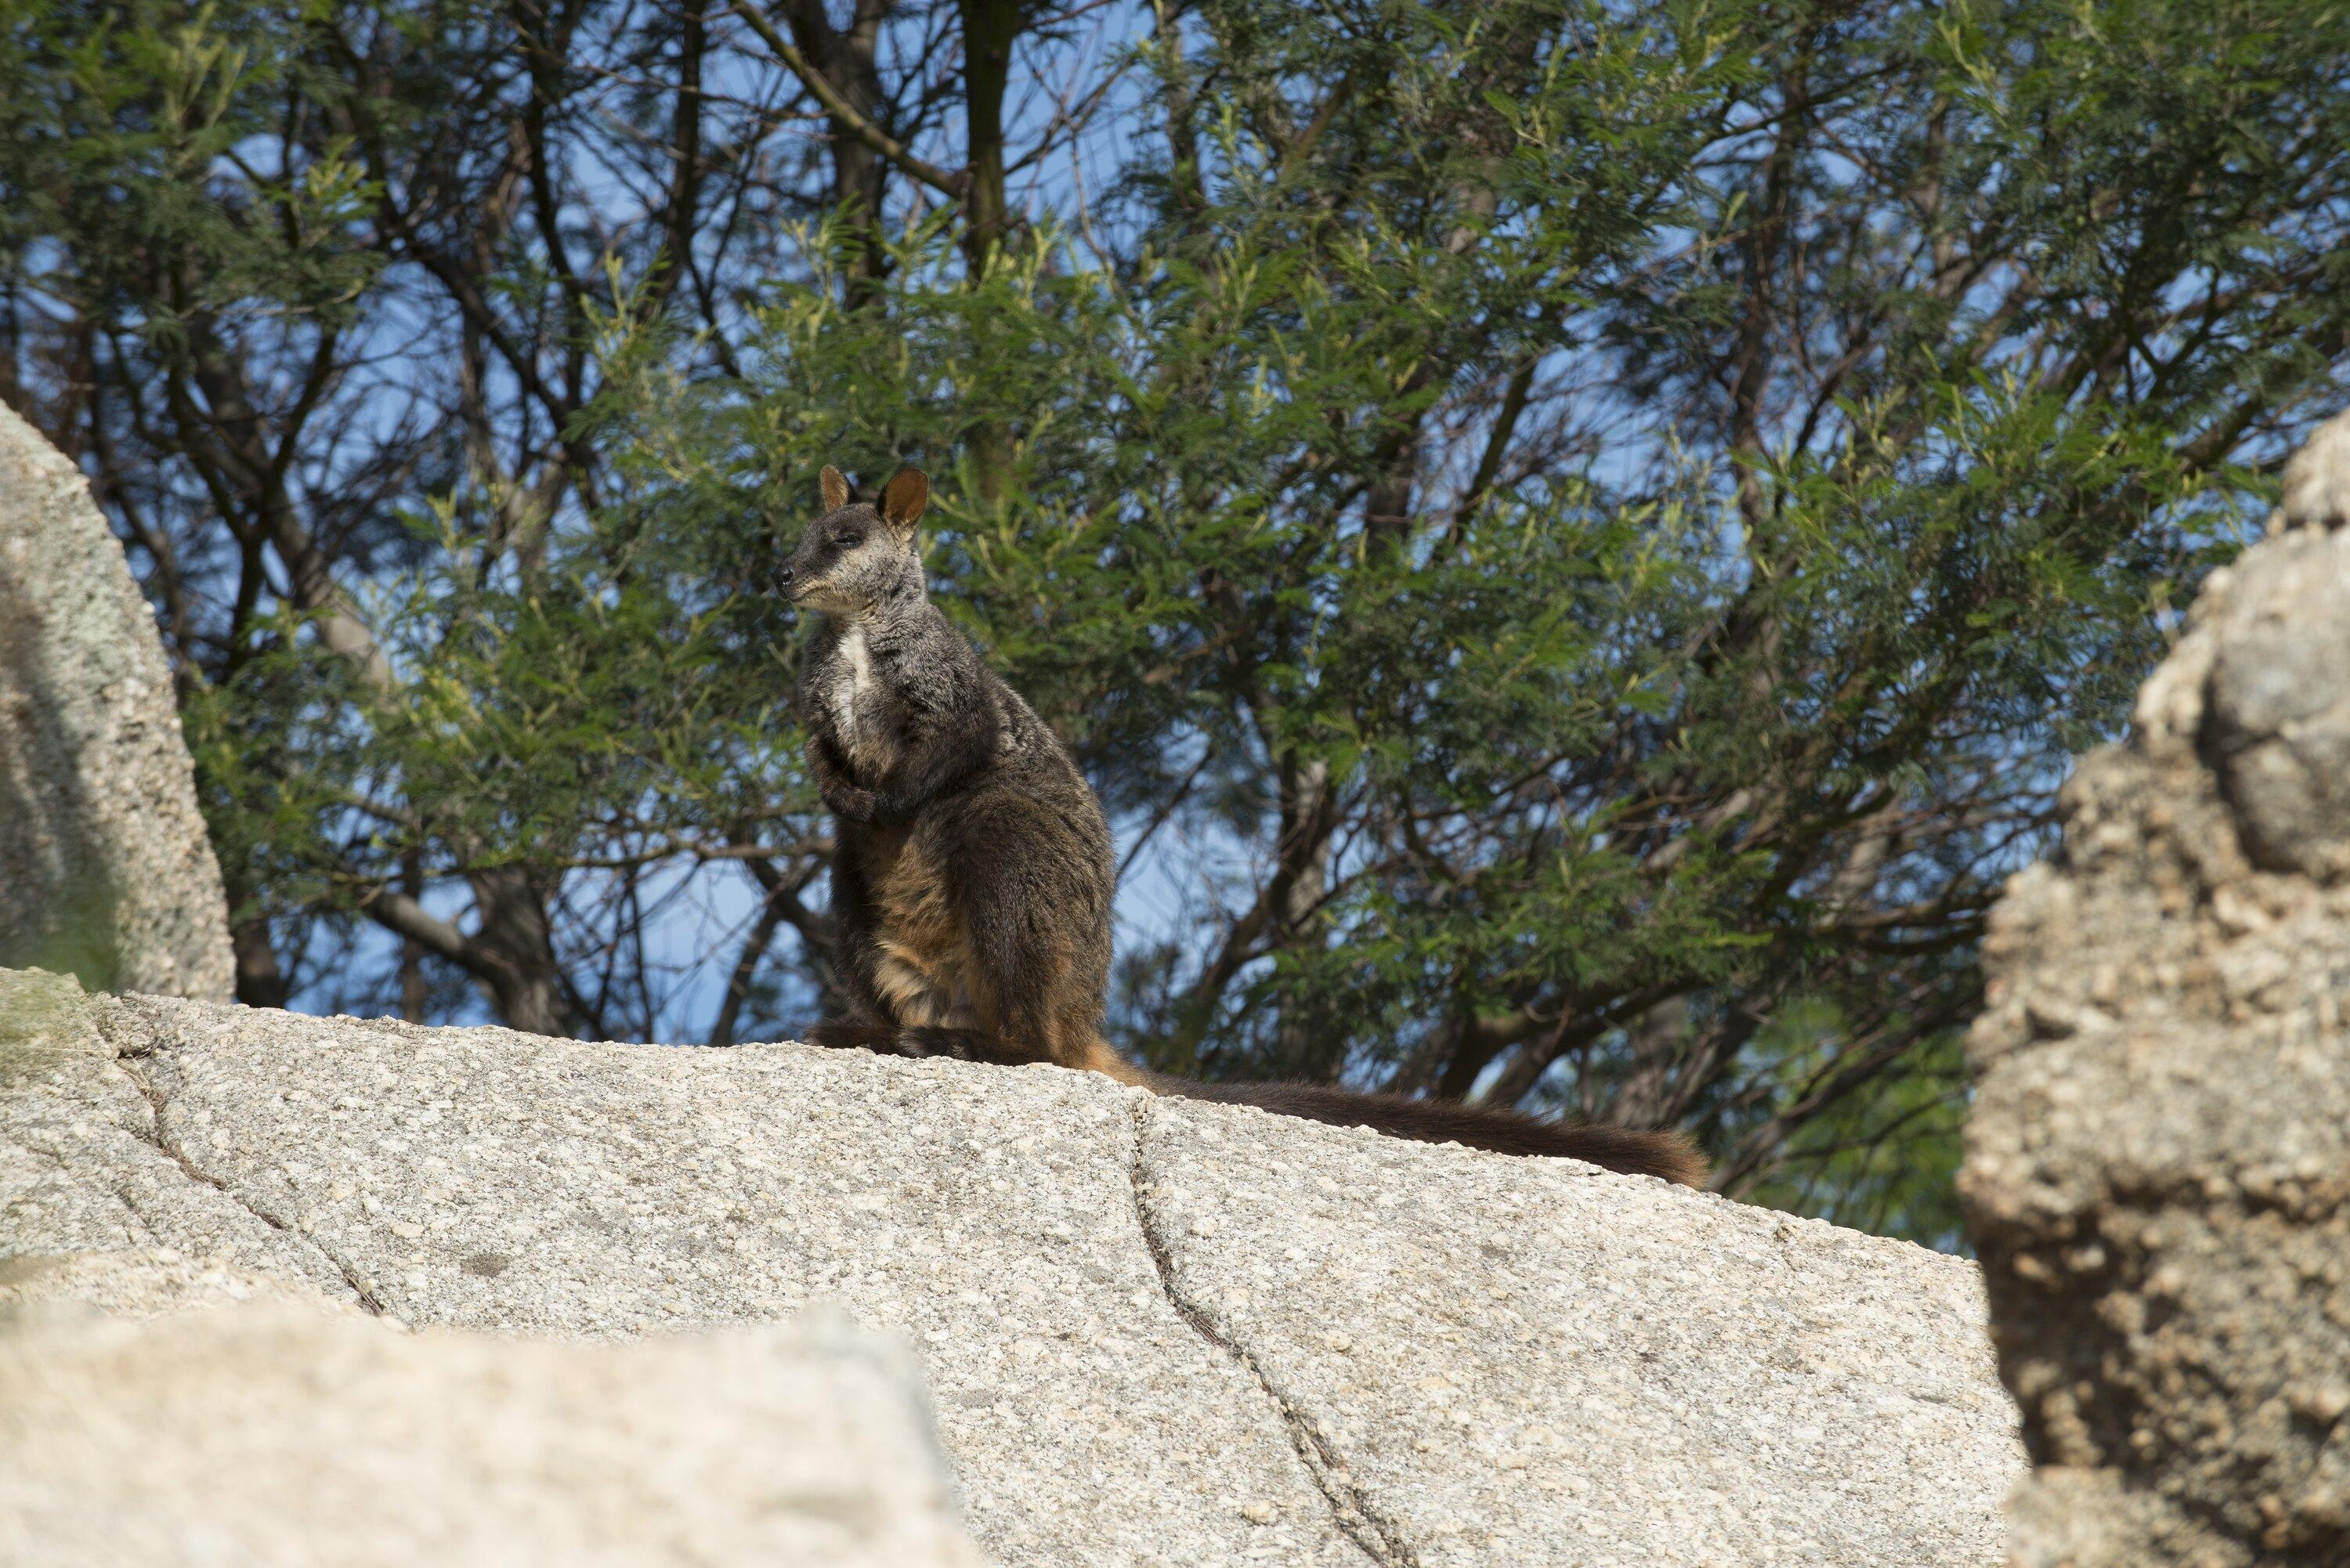Brush-tailed rock-wallaby: (780, 458, 1739, 1213)
